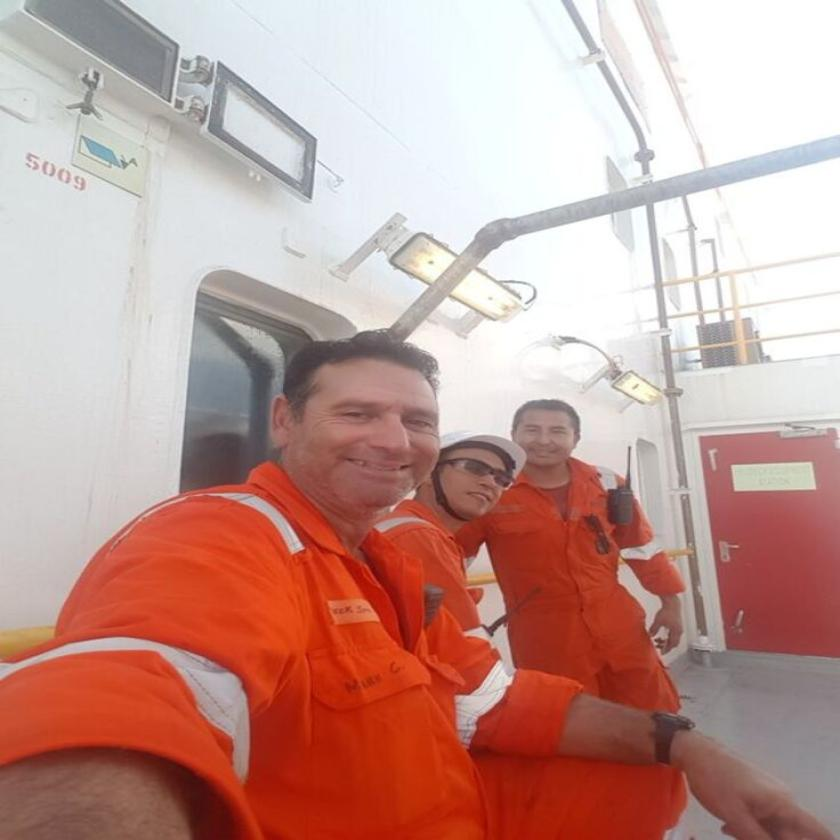Sin_casco: (274, 335, 440, 554), (506, 395, 588, 482)
